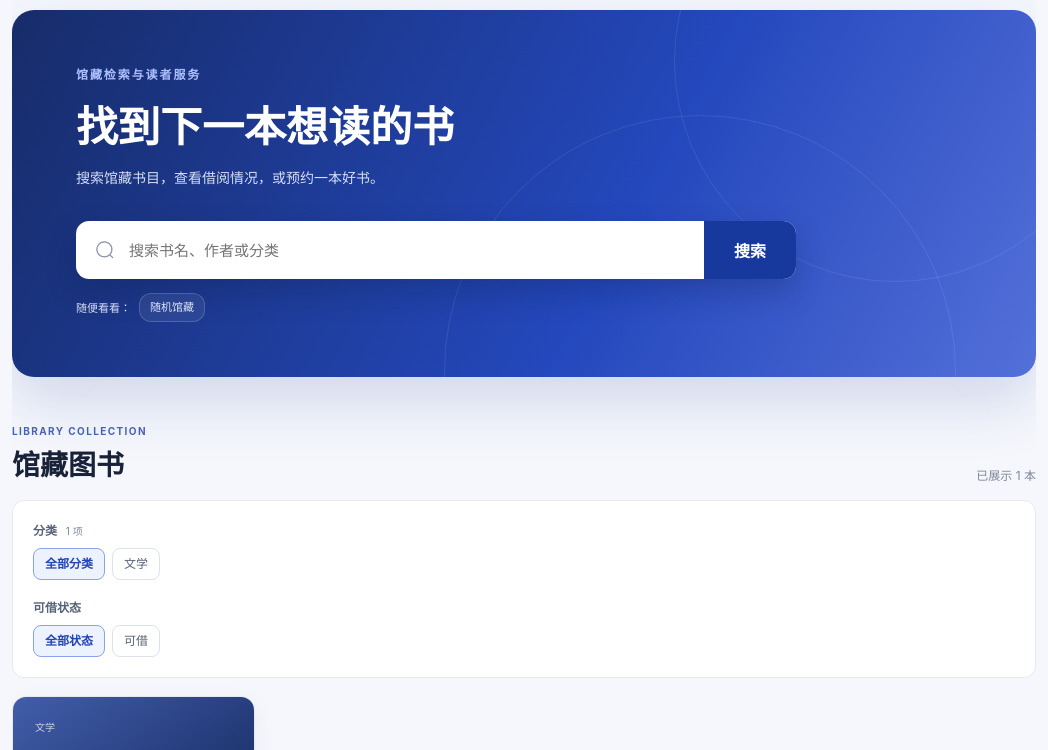
HomePage › applies keyword, category and availability buttons to every cursor page
Type "真实书名" into the search field with test id "home-search-input" at (416, 250), box x1=129 y1=221 x2=704 y2=279
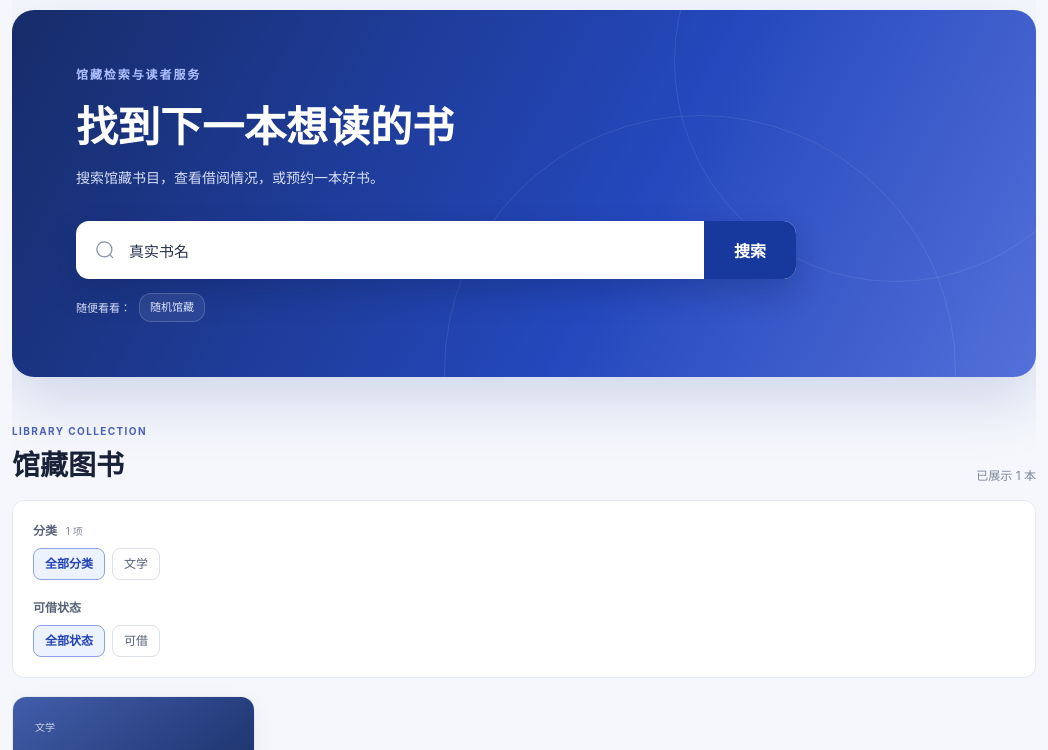
Click the button with test id "home-category-option" at (136, 564), box x1=112 y1=548 x2=160 y2=580
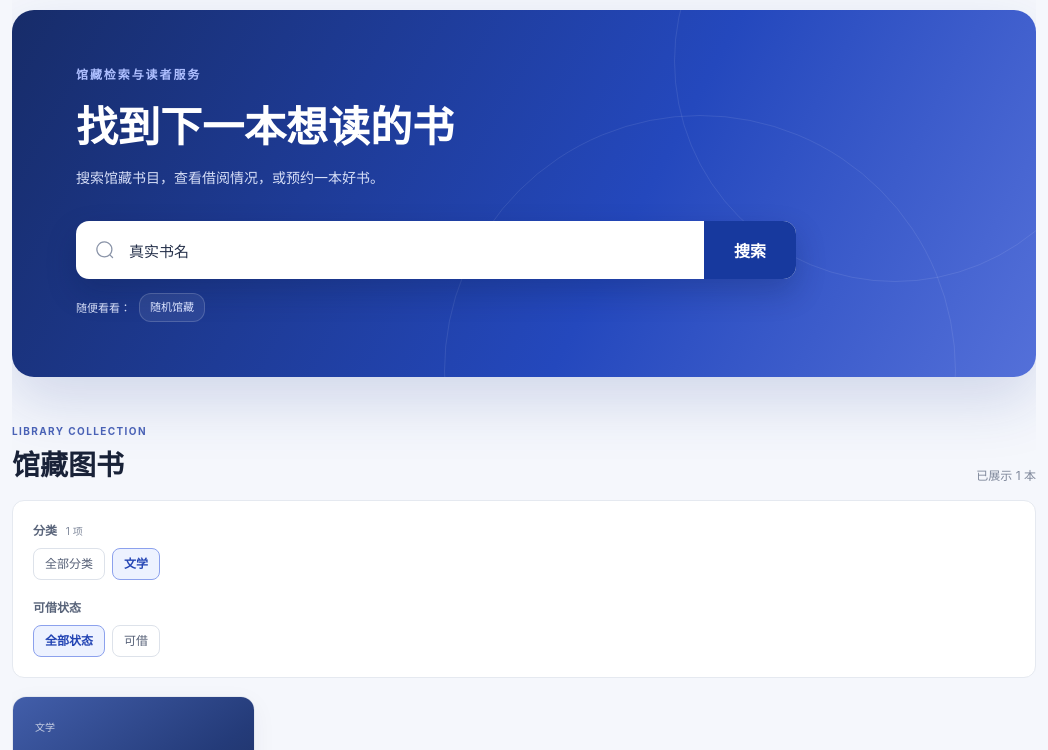
Click the button with test id "home-availability-option" at (136, 640), box x1=112 y1=624 x2=160 y2=656
(page scrolled)
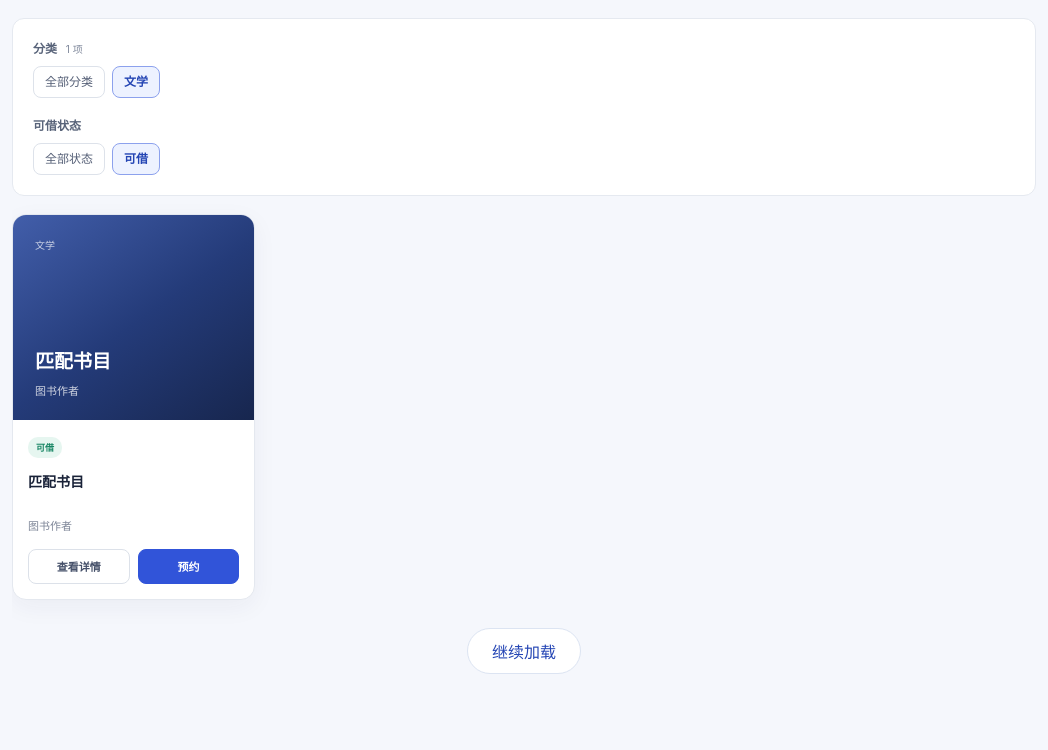
Expected: the element with test id "home-card-2001" is shown, x1=12 y1=214 x2=255 y2=600
Expected: the button with test id "home-category-option" is pressed, x1=112 y1=66 x2=160 y2=98
Expected: the button with test id "home-availability-option" is pressed, x1=112 y1=142 x2=160 y2=174
Click the button with test id "home-load-more" at (524, 650), box x1=467 y1=628 x2=581 y2=674
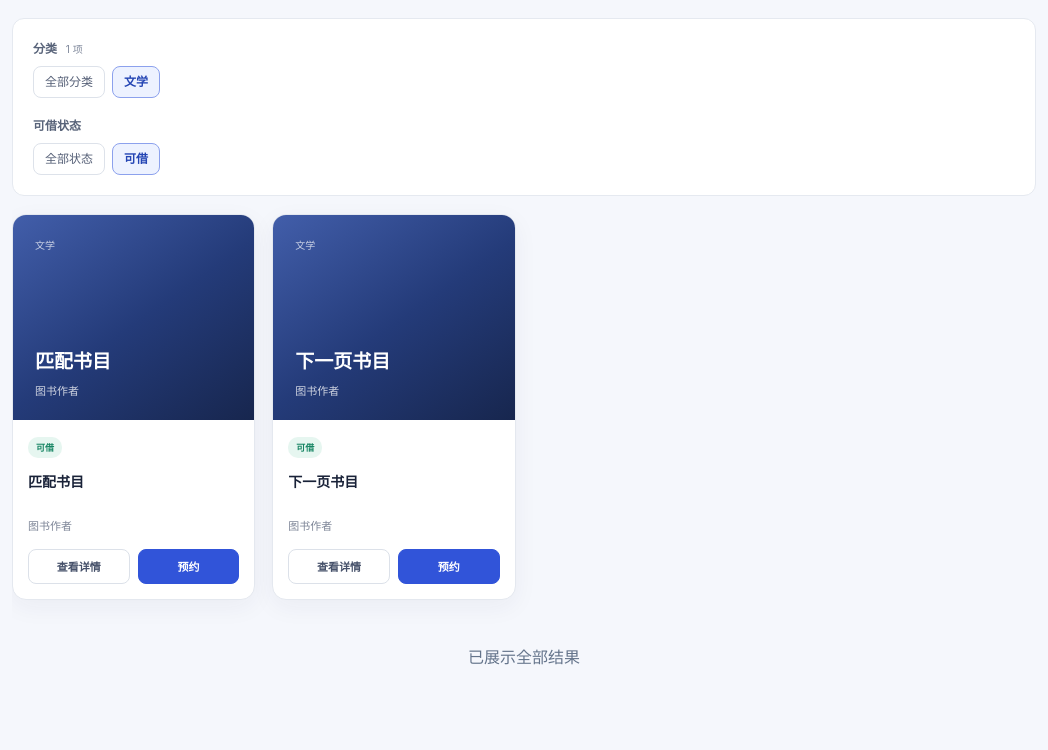
Expected: the text "匹配书目" is shown, x1=35 y1=351 x2=111 y2=372
Expected: the text "下一页书目" is shown, x1=295 y1=351 x2=390 y2=372
Expected: the text "已展示全部结果" is shown, x1=468 y1=644 x2=580 y2=668
